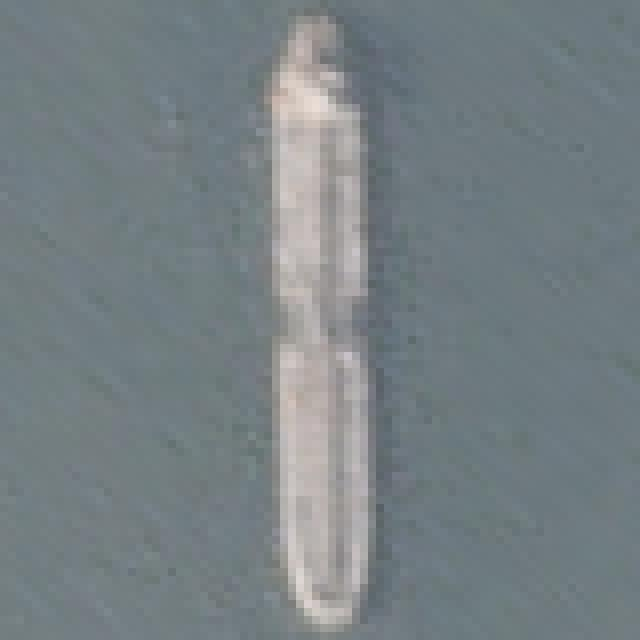ship: (218, 0, 438, 640)
